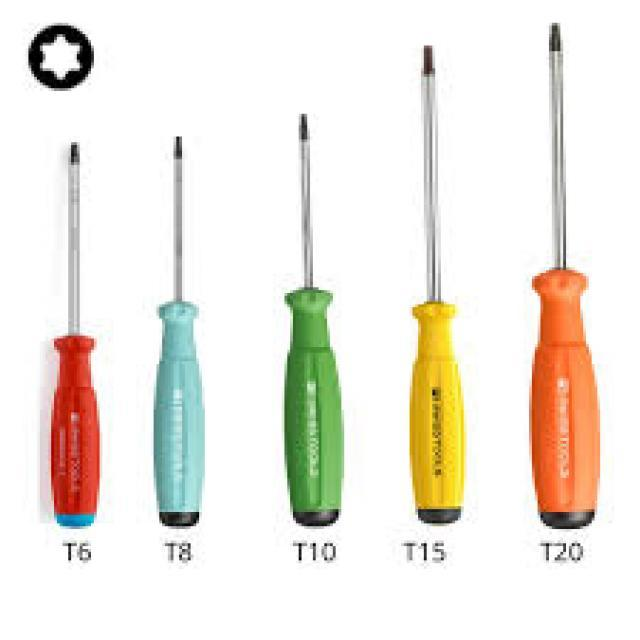screwdriver: (529, 9, 603, 530), (398, 42, 467, 526), (278, 95, 346, 525), (42, 139, 106, 529), (149, 128, 209, 535)
